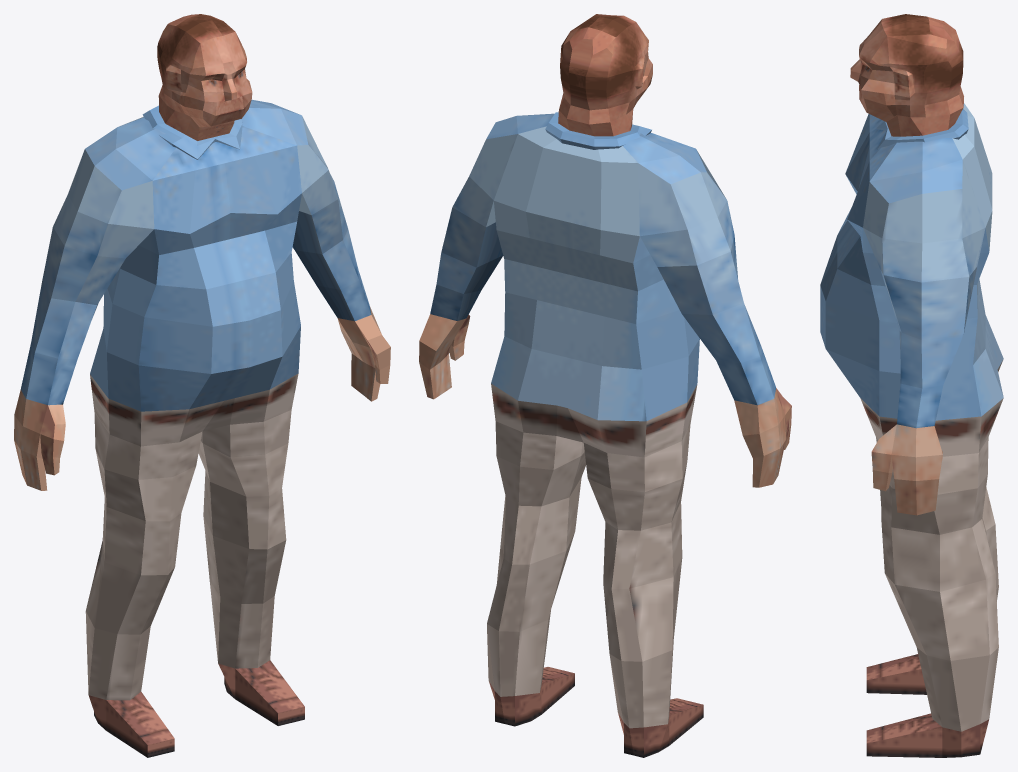
File: NPC2.fbx
3 renders of one model, left to right at view 1: azimuth 30°, elevation 25°; view 2: azimuth 150°, elevation 25°; view 3: azimuth 270°, elevation 25°, orthographic.
Parts seen in each view (by area): view 1: Cube; view 2: Cube; view 3: Cube.
Boxes of the visible parts, x1=… form: Cube: x1=14, y1=14, x2=390, y2=757; Cube: x1=419, y1=14, x2=791, y2=757; Cube: x1=820, y1=14, x2=1003, y2=757.
Bounding box in the file's own units: 212 × 397 × 94.47.
